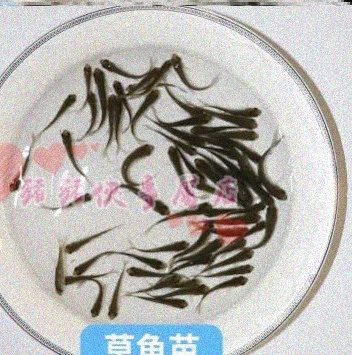fry: (114, 143, 158, 184), (57, 127, 86, 176), (60, 226, 108, 254), (8, 149, 37, 193), (202, 273, 251, 298), (168, 48, 198, 86), (260, 170, 293, 203), (162, 145, 186, 190), (135, 196, 174, 223), (120, 252, 169, 272), (154, 266, 192, 291), (147, 235, 190, 257), (217, 258, 262, 279), (189, 217, 216, 252), (169, 91, 205, 117), (121, 261, 162, 283), (108, 275, 126, 324), (189, 218, 217, 249), (52, 87, 78, 120), (50, 251, 68, 298), (54, 190, 94, 211), (98, 55, 133, 79), (112, 94, 126, 153), (92, 63, 109, 111), (135, 87, 161, 118), (171, 201, 212, 220), (225, 112, 261, 133), (86, 279, 103, 323), (262, 202, 278, 248), (221, 247, 258, 266), (170, 111, 211, 128), (103, 91, 115, 149), (82, 88, 98, 131), (154, 293, 190, 312), (157, 53, 177, 87), (69, 254, 102, 274), (183, 253, 217, 272), (233, 98, 265, 118), (111, 78, 128, 115), (190, 121, 227, 138), (232, 126, 265, 145), (195, 157, 219, 182), (252, 184, 276, 209), (224, 159, 248, 183), (213, 142, 243, 161), (230, 181, 251, 208), (221, 233, 249, 253), (64, 272, 106, 285), (191, 179, 218, 198), (230, 211, 263, 226), (80, 58, 95, 90), (140, 63, 160, 87), (241, 144, 265, 164), (202, 236, 228, 254), (208, 158, 228, 181), (178, 131, 206, 147), (245, 218, 271, 235), (186, 164, 205, 187), (173, 138, 197, 155), (180, 286, 211, 299), (220, 223, 250, 236), (175, 275, 204, 288)
